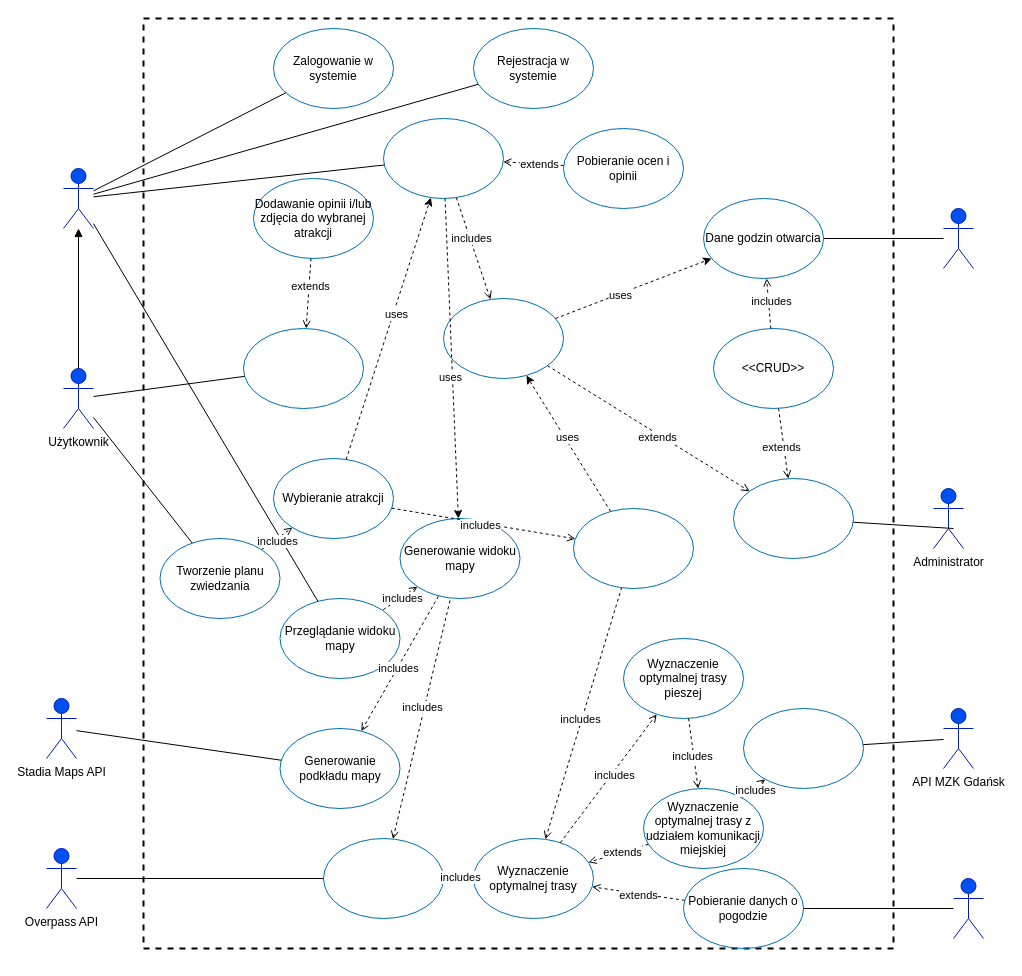
The diagram is 1022 pixels wide and 976 high, and some of its shapes have lost their labels. Each missing label, with the centre of its shape:
ChatGPT: point 958,238
Gość: point 78,198
Naniesienie punktów na mapę: point 383,878
Ocenienie atrakcji turystycznej: point 303,368
OpenMeteo: point 968,908
Pobieranie Atrakcji: point 503,338
Pobieranie godzin otwarcia atrakcji: point 633,548
Pobranie aktualnego rozkładu jazdy: point 803,748
Wyświetlenie dostępnych atrakcji: point 443,158
Zarządzanie atrakcjami w Gdańsku: point 793,518
